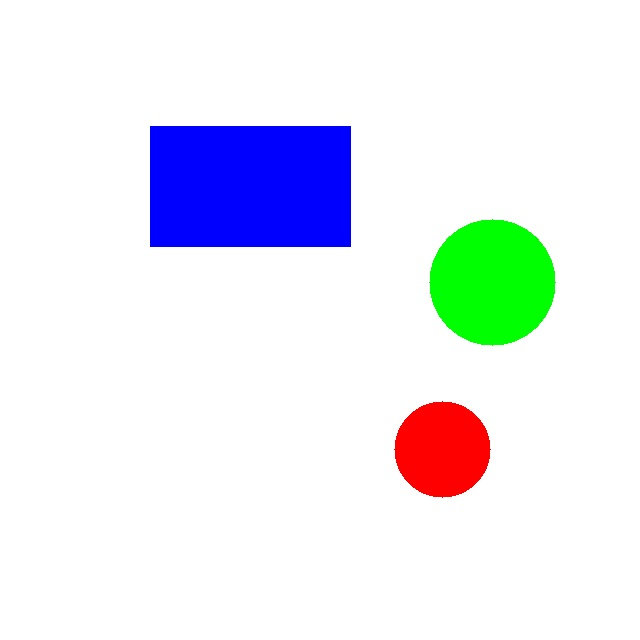cartao: (150, 126, 350, 246)
rosca_externa: (429, 219, 555, 345)
rosca_interna: (394, 401, 490, 497)
